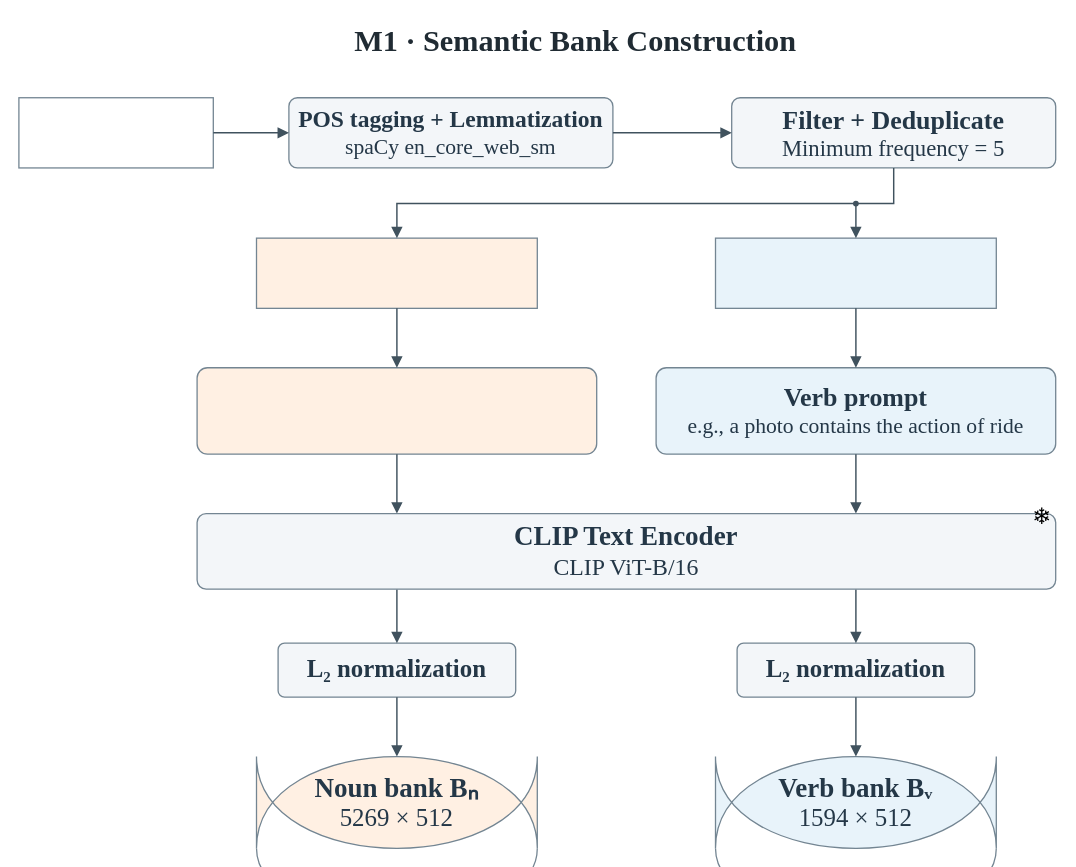
This 1076x867 diagram has some shape labels left out. The shapes that lost their labels are listed below. From the top down, each one's centre as x and y in pixels, then its label:
At (x=115, y=132): "TRAIN captions".
At (x=396, y=272): "Noun lemmas e.g., person, bicycle".
At (x=855, y=272): "Verb lemmas e.g., ride, stand".
At (x=396, y=410): "Object prompt e.g., a photo of a bicycle".
